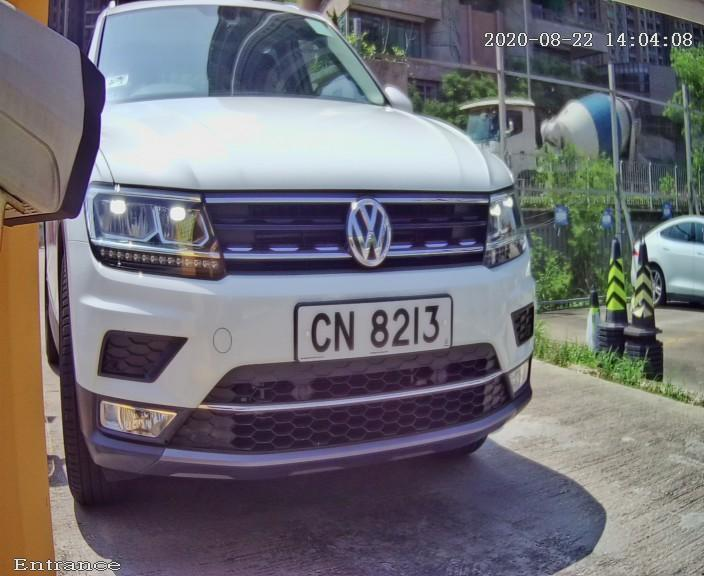Car: (10, 1, 573, 543)
License Plate: (283, 286, 462, 373)
